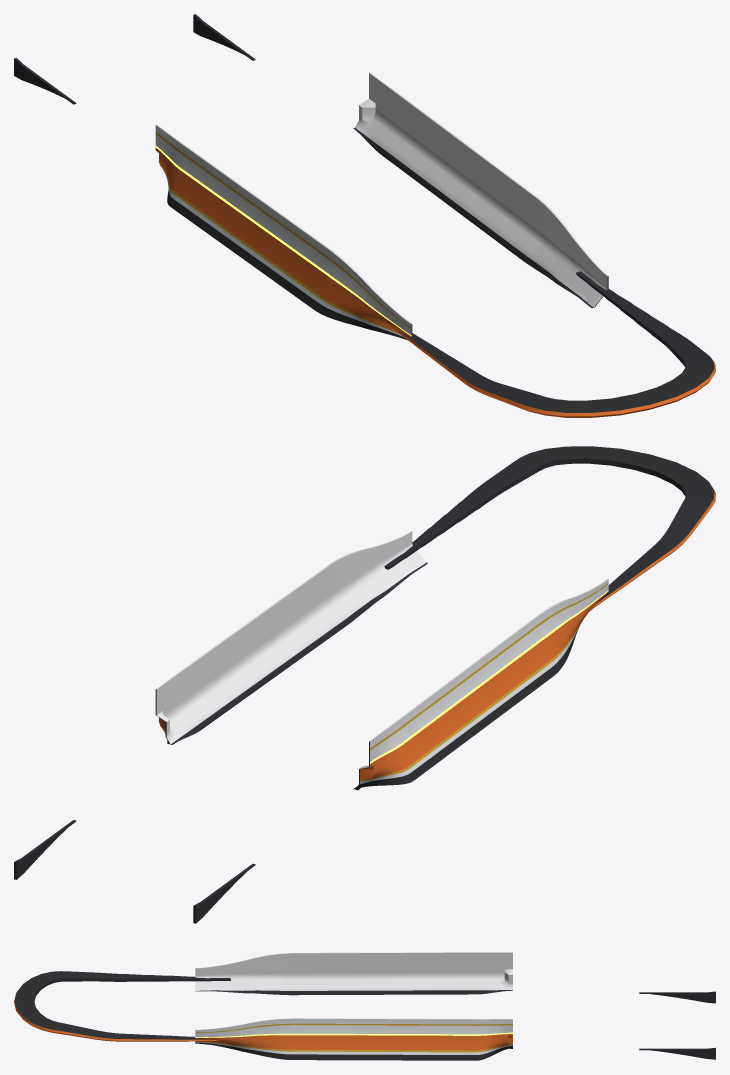
Rendered from nomad_armor_aegis.fbx.
3 views of the same model, one above another, from view 1: azimuth 30°, elevation 25°; view 2: azimuth 150°, elevation 25°; view 3: azimuth 270°, elevation 25° (orthographic). The views are drawn at different scales.
Parts seen in each view (by area): view 1: Armor_Aegis; view 2: Armor_Aegis; view 3: Armor_Aegis.
Boxes of the visible parts, left/top/right/bottom form: Armor_Aegis: left=14, top=14, right=715, bottom=417; Armor_Aegis: left=14, top=446, right=715, bottom=923; Armor_Aegis: left=14, top=952, right=715, bottom=1060.
Bounding box in the file's own units: 168 × 46.6 × 654.
